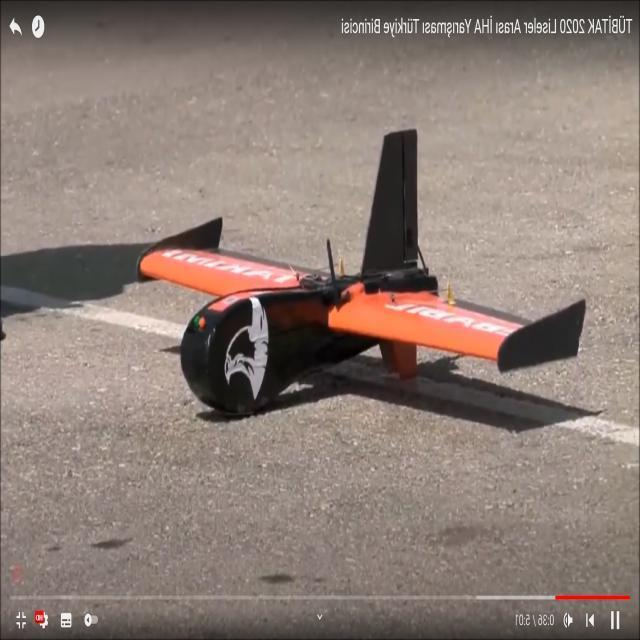UAV: (131, 109, 592, 438)
